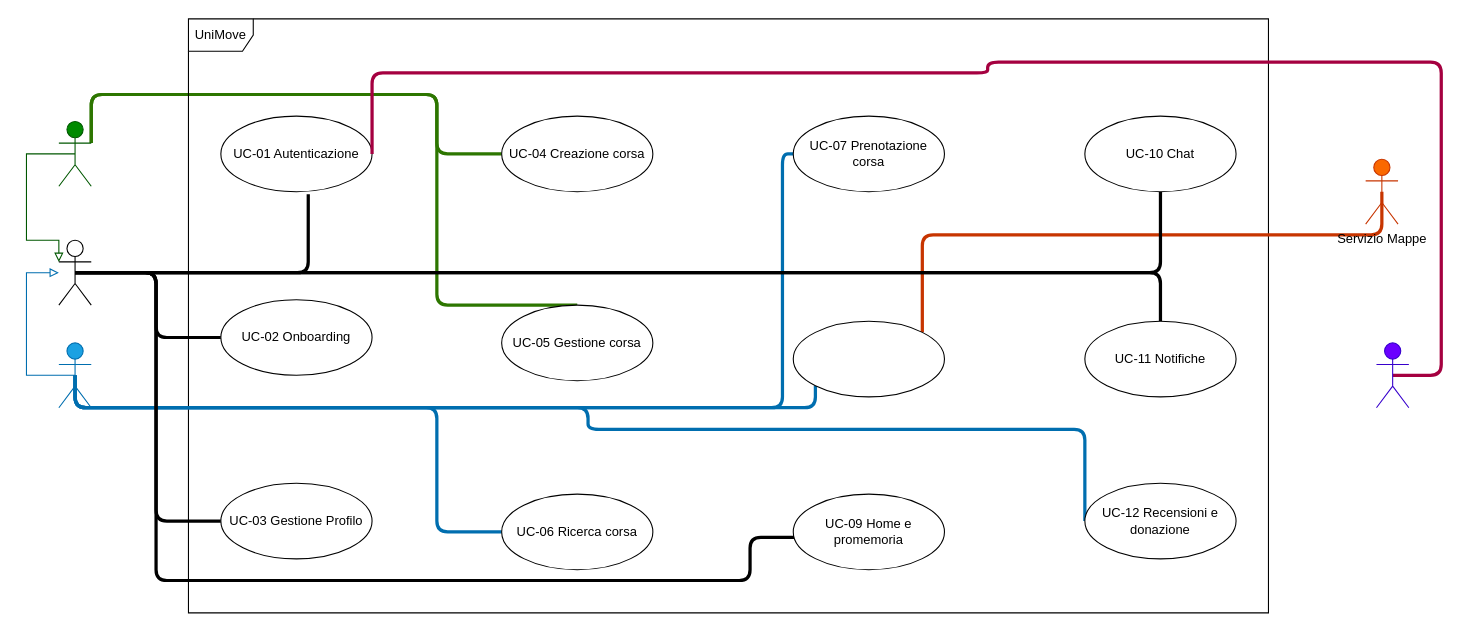
Image size: 1462x632. Some labels were removed from this diagram. The shapes that lost their labels are listed below. From the top down, each one's box as (x1, y1, x2, y2) in pixels, then its label:
(58, 120, 91, 186): Guidatore
(58, 239, 91, 305): Utente UNIMOL
(58, 342, 91, 408): Passeggero
(792, 320, 944, 397): UC-08 Tracciamento corsa
(1375, 342, 1409, 408): CINECA ESSE3
